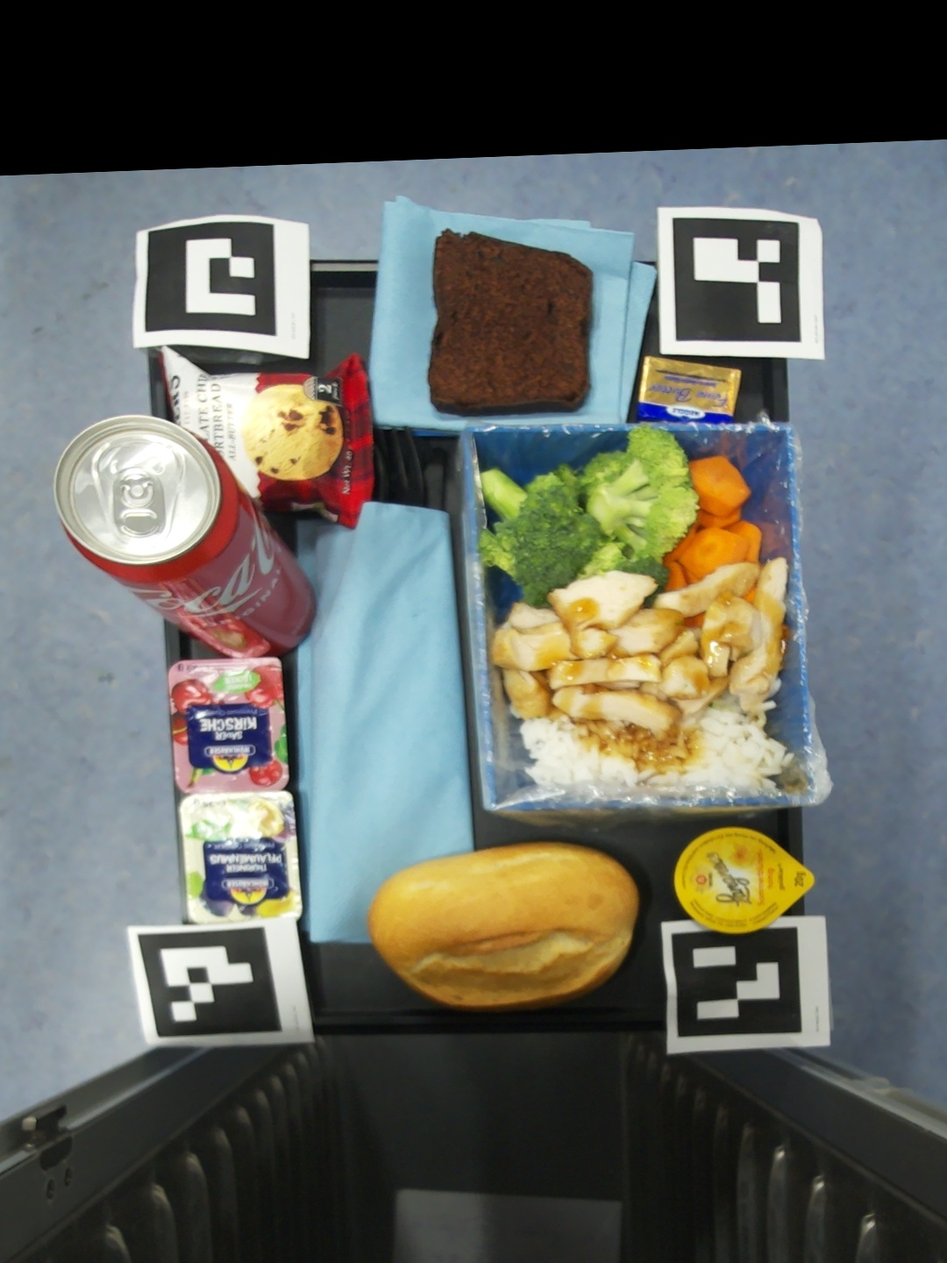bread_roll: (368, 841, 638, 1012)
broccoli: (480, 424, 701, 609)
brownie: (427, 228, 593, 418)
butter: (637, 355, 742, 424)
carrots: (663, 454, 762, 590)
cherry_jam: (170, 657, 288, 794)
chicken: (491, 557, 791, 741)
cola: (53, 412, 314, 660)
cookie: (158, 346, 374, 528)
honey: (673, 828, 814, 935)
plum_jam: (177, 790, 303, 925)
rice: (520, 674, 794, 791)
